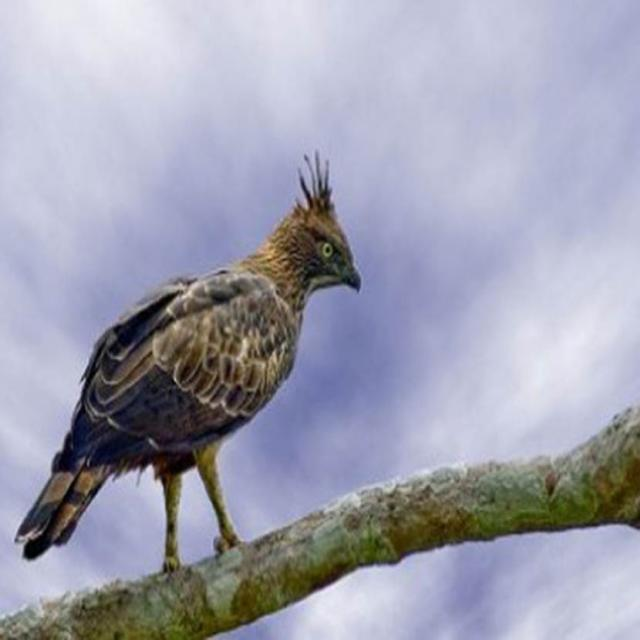Elang Jawa: (8, 150, 369, 595)
